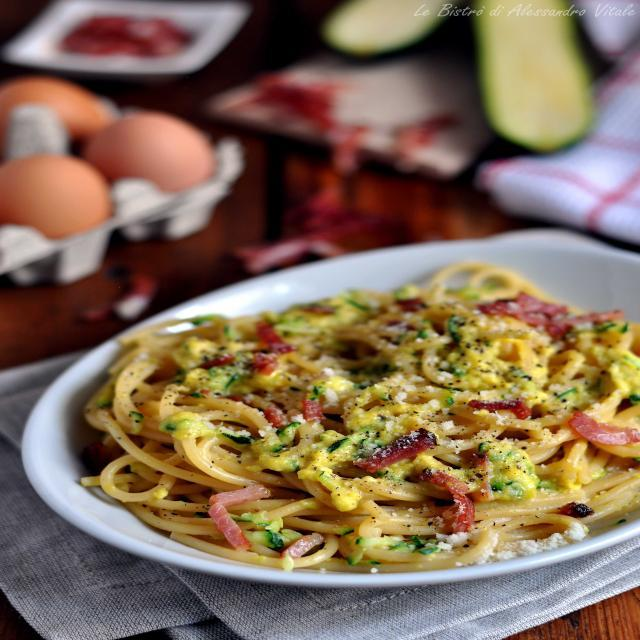Pasta with carbonara sauce: (40, 235, 640, 608)
